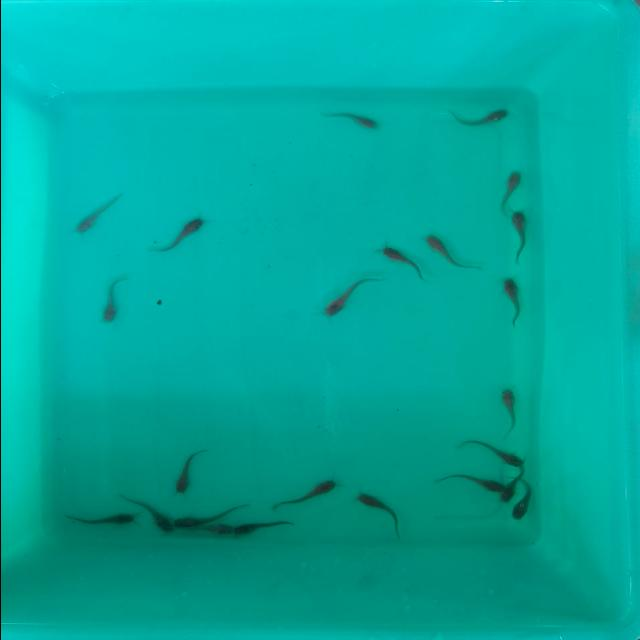lele: (418, 229, 478, 275), (355, 491, 409, 541), (373, 241, 431, 285), (72, 188, 126, 234), (119, 492, 174, 534), (316, 274, 366, 320), (275, 478, 338, 513), (154, 213, 204, 256), (168, 446, 208, 498), (461, 440, 523, 467), (100, 273, 132, 325), (176, 504, 244, 526), (437, 474, 502, 492), (501, 278, 523, 330), (495, 170, 522, 212), (460, 107, 510, 129), (510, 211, 528, 264), (326, 112, 378, 129), (64, 514, 136, 526), (237, 522, 296, 536), (499, 470, 524, 502), (500, 388, 516, 436), (512, 491, 532, 526), (177, 524, 234, 536)
